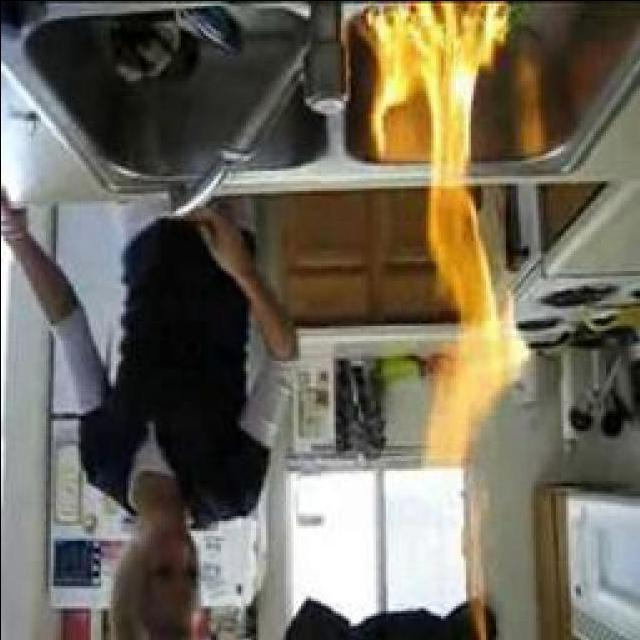Fire: (362, 1, 530, 482)
